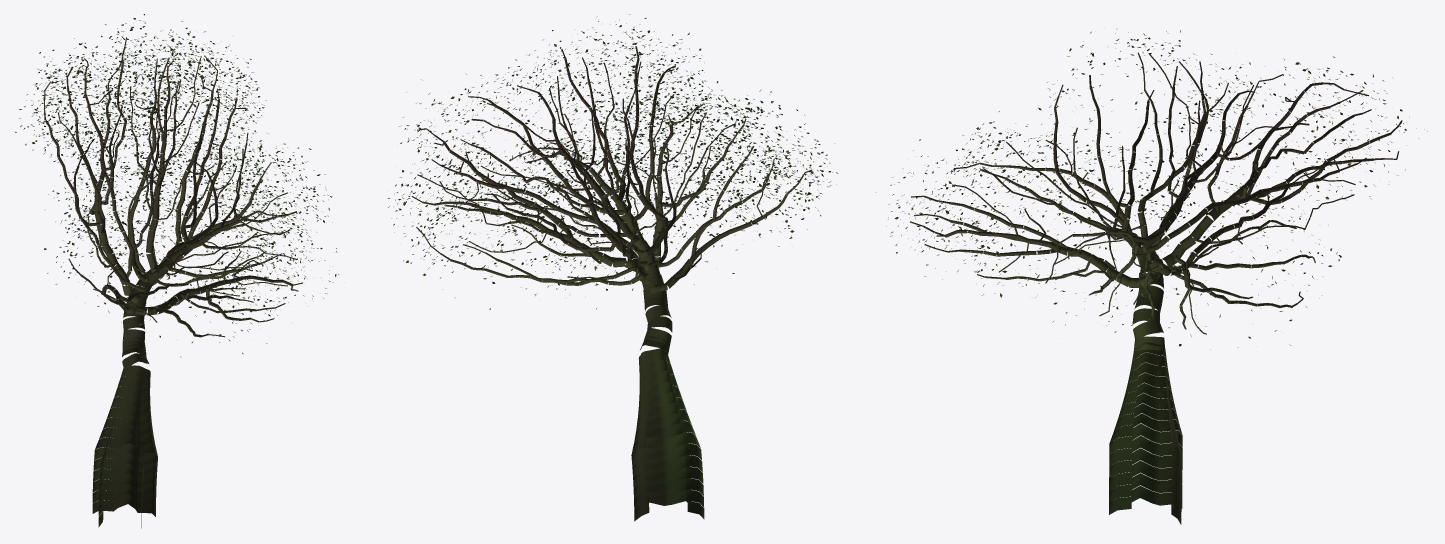
The model's file is SM_Tree_hawthorn_2.glb.
3 renders of one model, left to right at view 1: azimuth 30°, elevation 25°; view 2: azimuth 150°, elevation 25°; view 3: azimuth 270°, elevation 25°, orthographic. The views are drawn at different scales.
Visible parts, largest first — view 1: SM_Tree_hawthorn_2; view 2: SM_Tree_hawthorn_2; view 3: SM_Tree_hawthorn_2.
Boxes of the visible parts, x1=… form: SM_Tree_hawthorn_2: x1=15, y1=14, x2=338, y2=528; SM_Tree_hawthorn_2: x1=388, y1=14, x2=837, y2=521; SM_Tree_hawthorn_2: x1=876, y1=28, x2=1427, y2=524.
Bounding box in the file's own units: 4.27 × 5.48 × 5.4.
